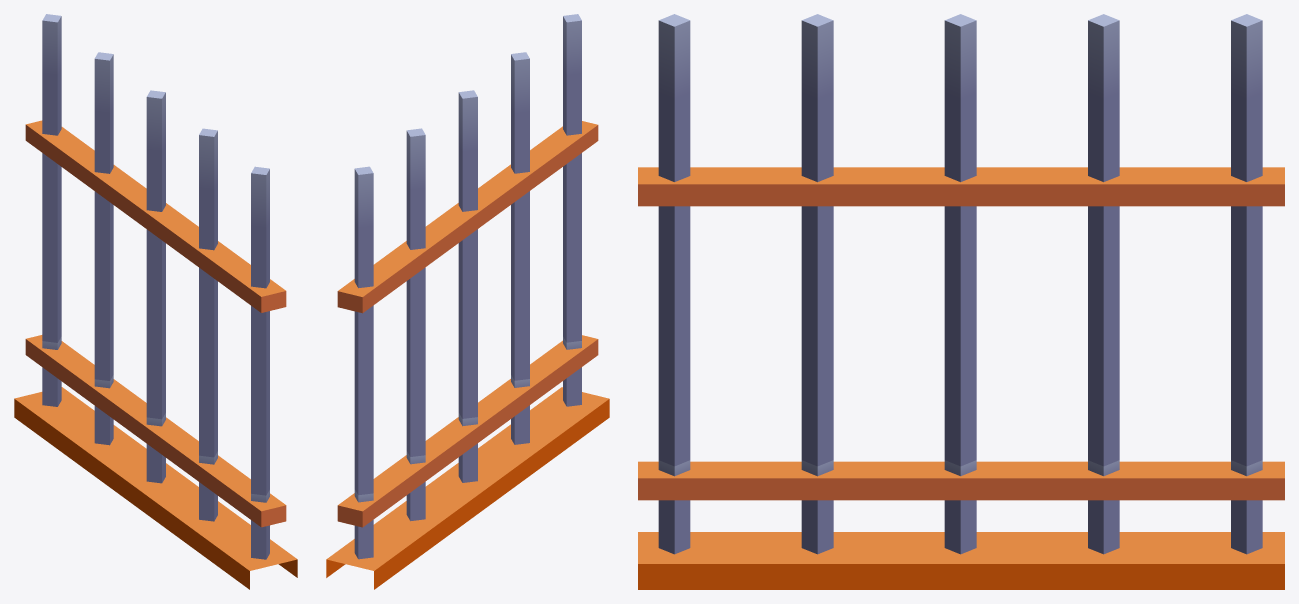
File: prison_cell_doorstep.fbx
3 renders of one model, left to right at view 1: azimuth 30°, elevation 25°; view 2: azimuth 150°, elevation 25°; view 3: azimuth 270°, elevation 25°, orthographic. The views are drawn at different scales.
Parts seen in each view (by area): view 1: prison_cell_door, prison_cell_doorstep; view 2: prison_cell_door, prison_cell_doorstep; view 3: prison_cell_door, prison_cell_doorstep.
Part boxes in pixels (x1,y1,x2,y2): prison_cell_door: (25, 14, 286, 559); prison_cell_doorstep: (14, 387, 297, 589); prison_cell_door: (337, 14, 598, 559); prison_cell_doorstep: (326, 387, 609, 589); prison_cell_door: (638, 14, 1284, 554); prison_cell_doorstep: (638, 532, 1284, 589).
Size of the model in its own units: 0.25 by 2.01 by 2.13.
